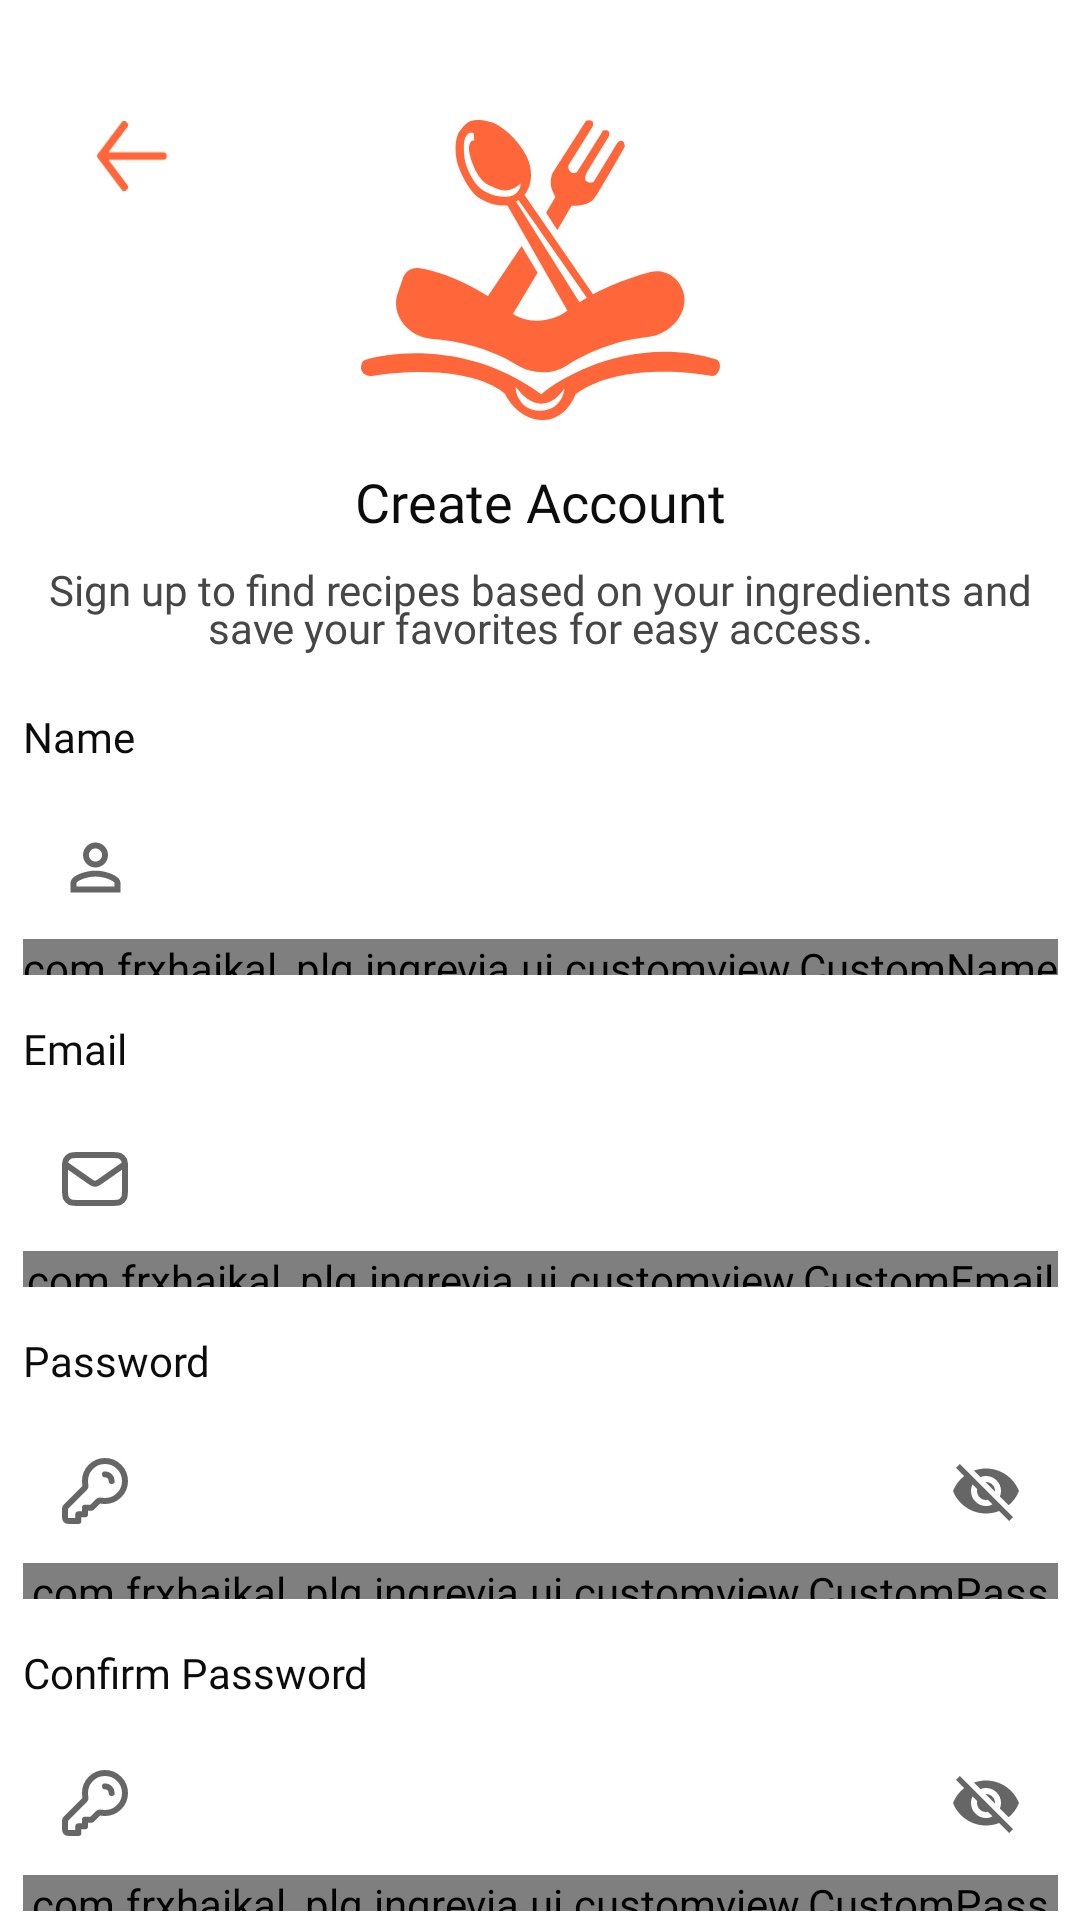

Icon click points for this 1080 × 1920 phone screenshot, format (x=x, y=y):
Back Arrow: (x=132, y=156)
